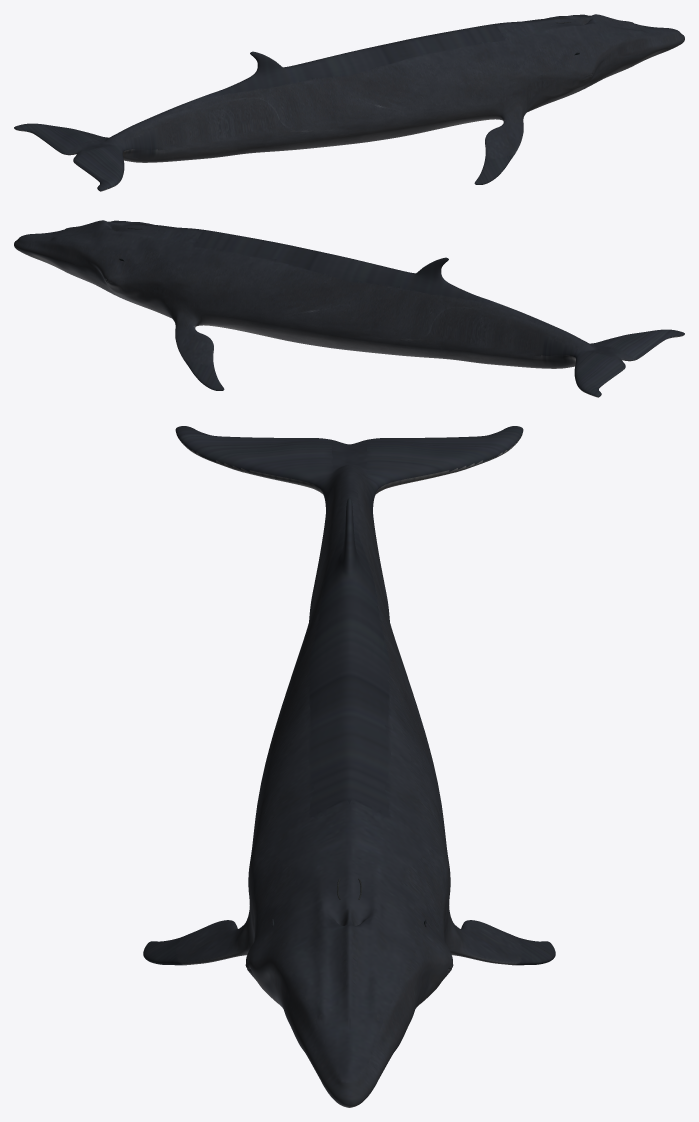
The model's file is model-cetacean-balaenoptera-brydei-v0678.glb.
3 renders of one model, top to bottom at view 1: azimuth 30°, elevation 25°; view 2: azimuth 150°, elevation 25°; view 3: azimuth 270°, elevation 25°, orthographic. The views are drawn at different scales.
Visible parts, largest first — view 1: balaenoptera-brydei licensed source body; view 2: balaenoptera-brydei licensed source body; view 3: balaenoptera-brydei licensed source body.
Part boxes in pixels (box(x1,y1,x2,y2)): balaenoptera-brydei licensed source body: box(14, 14, 684, 191); balaenoptera-brydei licensed source body: box(14, 220, 684, 397); balaenoptera-brydei licensed source body: box(143, 426, 555, 1107).
Bounding box in the file's own units: 3.84 × 0.8147 × 1.09.
3 materials, 1 textured.
